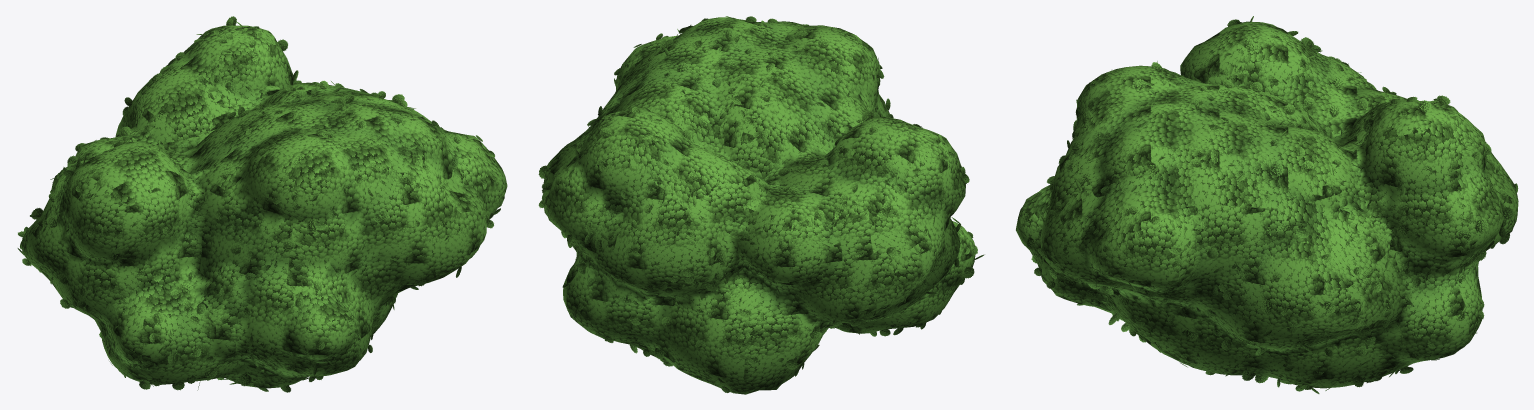
File: ballbush_v2_s23850.gltf
3 renders of one model, left to right at view 1: azimuth 30°, elevation 25°; view 2: azimuth 150°, elevation 25°; view 3: azimuth 270°, elevation 25°, orthographic. The views are drawn at different scales.
Parts seen in each view (by area): view 1: ballbush_v2_s23850_volume_LOD0, ballbush_v2_s23850_leaves_LOD0; view 2: ballbush_v2_s23850_volume_LOD0, ballbush_v2_s23850_leaves_LOD0; view 3: ballbush_v2_s23850_volume_LOD0, ballbush_v2_s23850_leaves_LOD0.
Part boxes in pixels (<box>): ballbush_v2_s23850_volume_LOD0: <box>21,25,507,388</box>; ballbush_v2_s23850_leaves_LOD0: <box>17,16,505,392</box>; ballbush_v2_s23850_volume_LOD0: <box>543,17,975,394</box>; ballbush_v2_s23850_leaves_LOD0: <box>538,16,984,392</box>; ballbush_v2_s23850_volume_LOD0: <box>1016,21,1518,388</box>; ballbush_v2_s23850_leaves_LOD0: <box>1017,16,1518,393</box>.
Size of what is drawn, in the model's own units: 2.7 by 1.79 by 2.78.
Materials: 2 (2 with a texture image).
